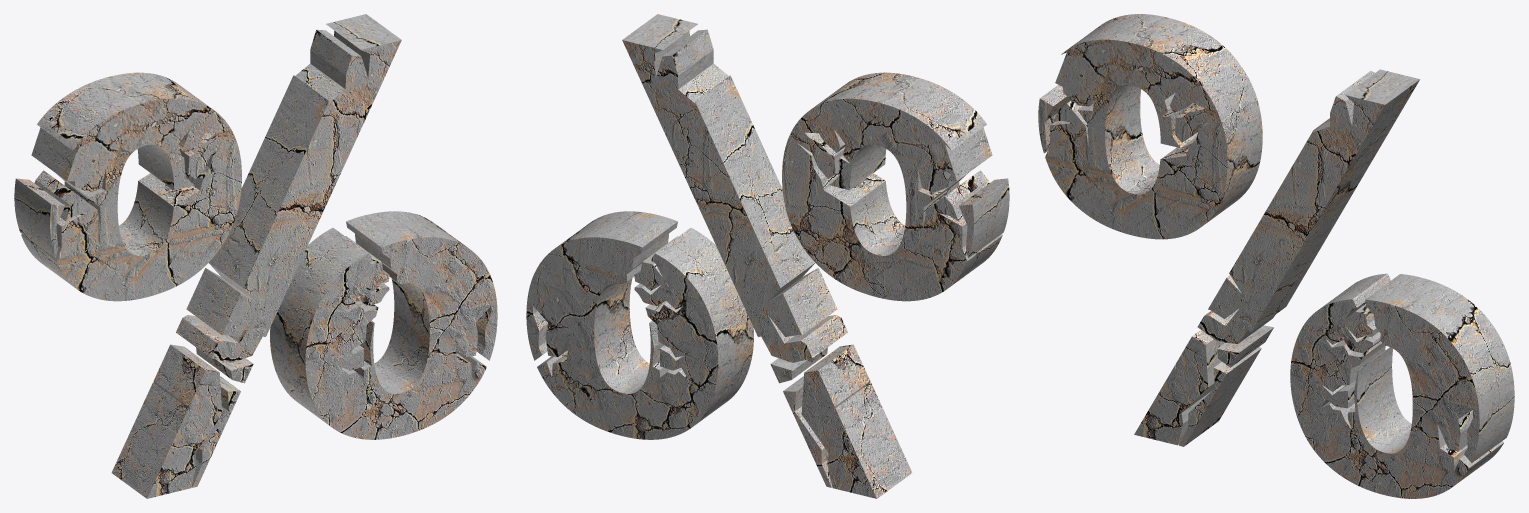
File: Interest.FBX
3 renders of one model, left to right at view 1: azimuth 30°, elevation 25°; view 2: azimuth 150°, elevation 25°; view 3: azimuth 330°, elevation 25°, orthographic.
Parts seen in each view (by area): view 1: Interest; view 2: Interest; view 3: Interest.
Part boxes in pixels (x1,y1,x2,y2): Interest: (14,14,497,498); Interest: (526,14,1009,498); Interest: (1038,14,1514,498).
Size of the model in its own units: 109 by 92.31 by 15.
Materials: 1 (1 with a texture image).
